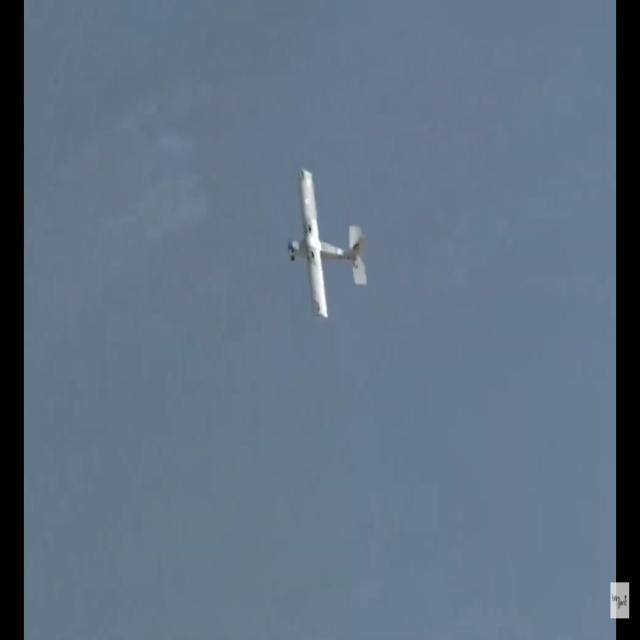iha: (310, 165, 331, 321)
